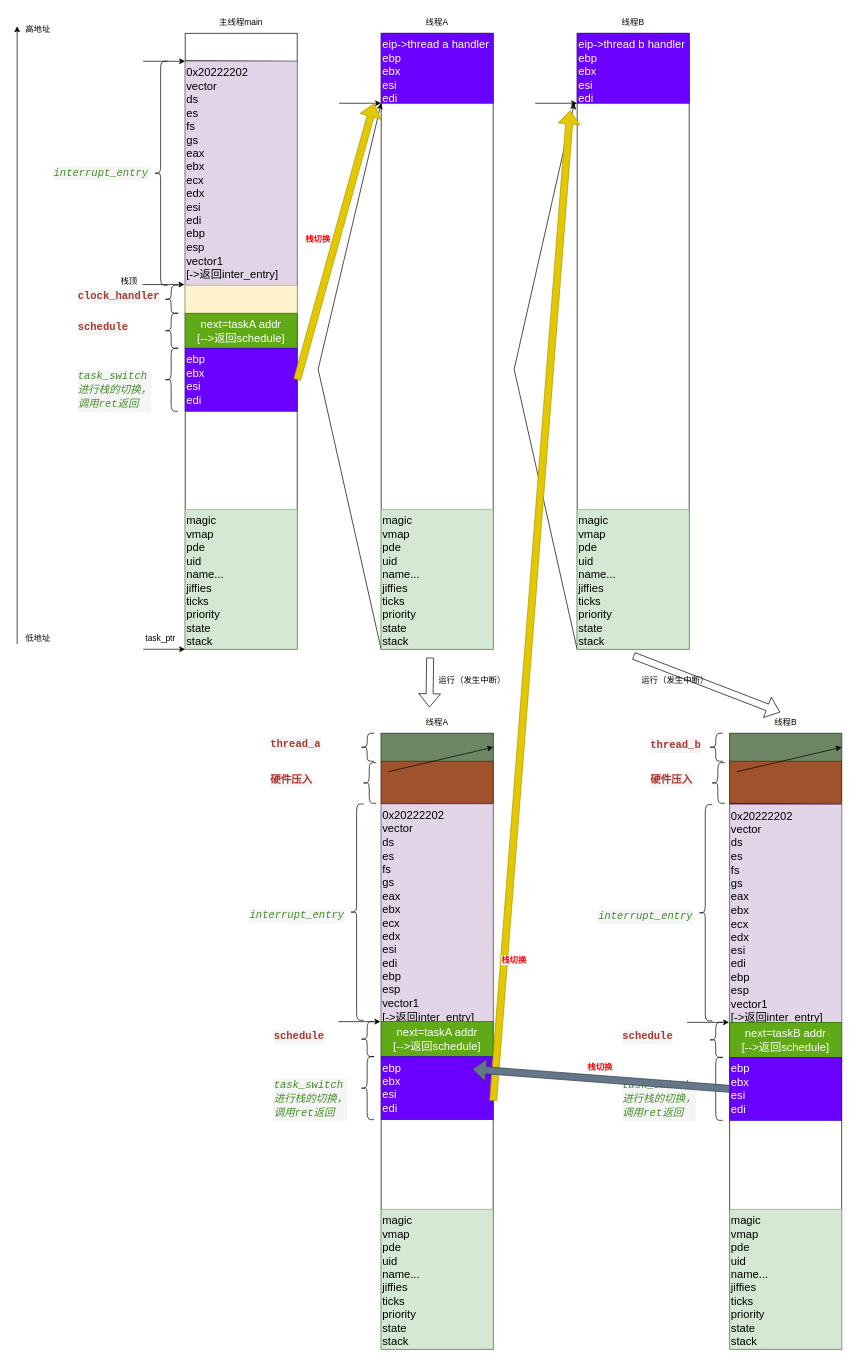
Some shapes in this 860 by 1362 pixel diagram are drawn without their labels. The shapes that lost their labels are listed below. From the top down, each one's centre as x and y in pixels, then its label:
At point 240,299: "[->返回clock_handler]".
At point 436,782: "eip(在 thread_a中 ) cs eflags".
At point 785,782: "eip(在 thread_b中 ) cs eflags".
